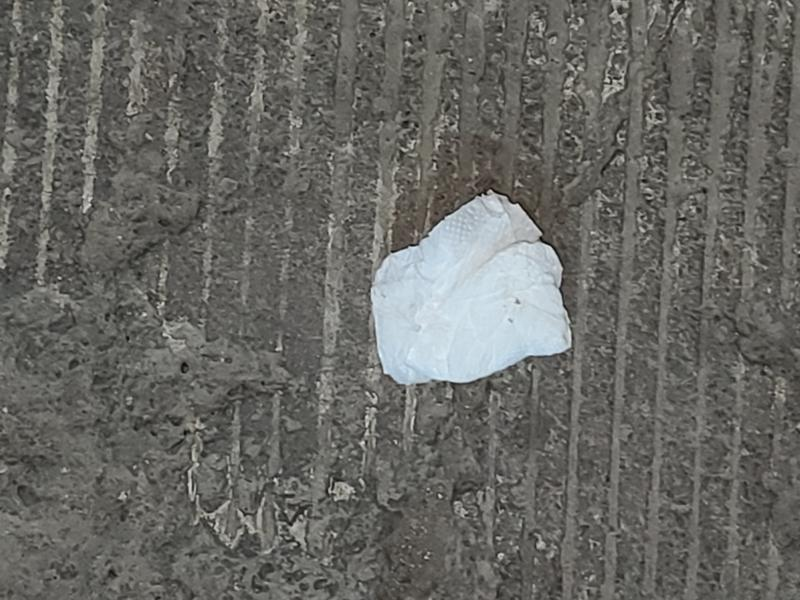papel: (369, 192, 573, 385)
